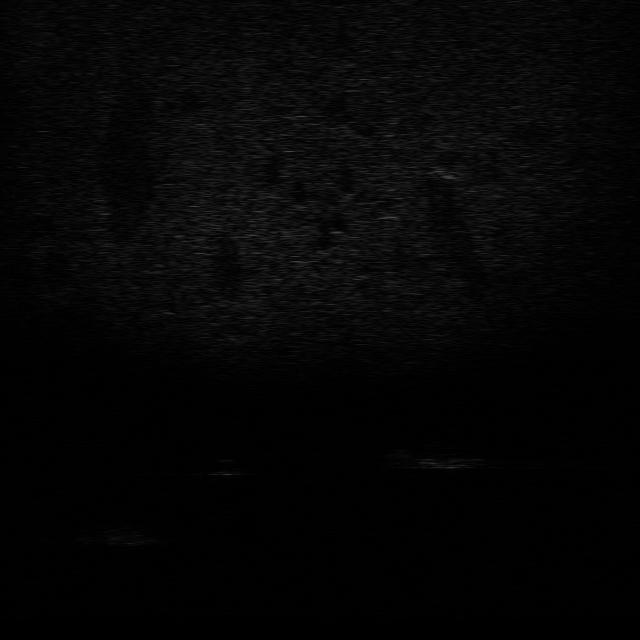ball: (200, 454, 249, 482)
circle cage: (76, 518, 152, 550)
human body: (380, 444, 511, 473)
